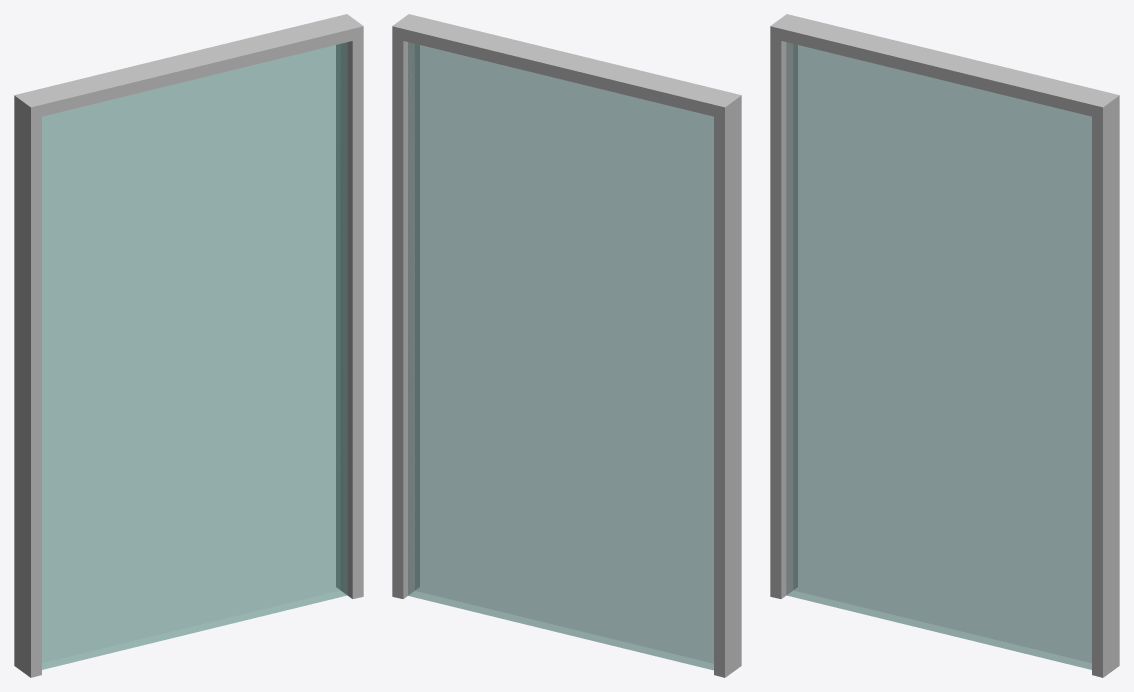
Rendered from door_transparent.fbx.
3 renders of one model, left to right at view 1: azimuth 30°, elevation 25°; view 2: azimuth 150°, elevation 25°; view 3: azimuth 330°, elevation 25°, orthographic.
Visible parts, largest first — view 1: Door, transparent; view 2: Door, transparent; view 3: Door, transparent.
Boxes of the visible parts, <box> form: Door: <box>42,42,347,669</box>; transparent: <box>14,14,363,677</box>; Door: <box>408,42,713,670</box>; transparent: <box>392,14,741,677</box>; Door: <box>786,42,1091,669</box>; transparent: <box>770,14,1119,677</box>.
Bounding box in the file's own units: 1.25 × 2.05 × 0.1087.
